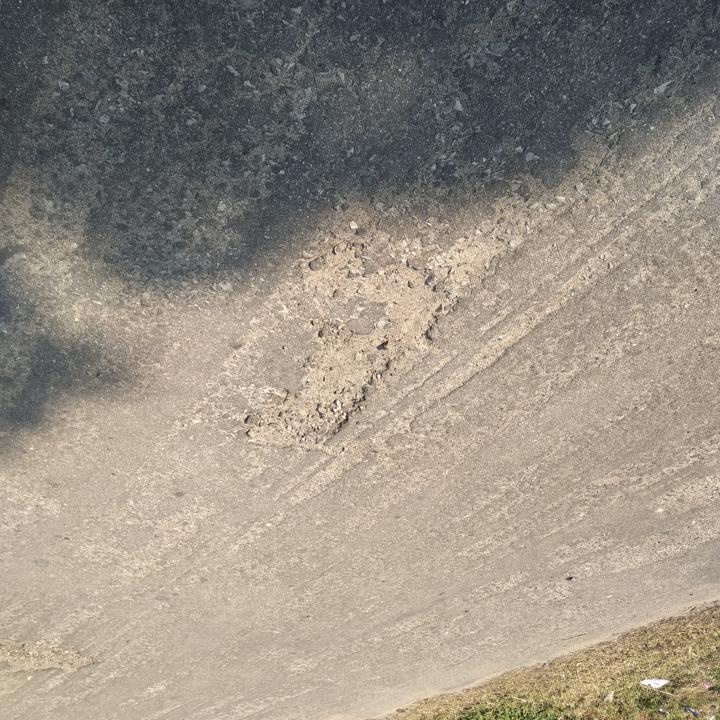pothole: (240, 248, 455, 454)
